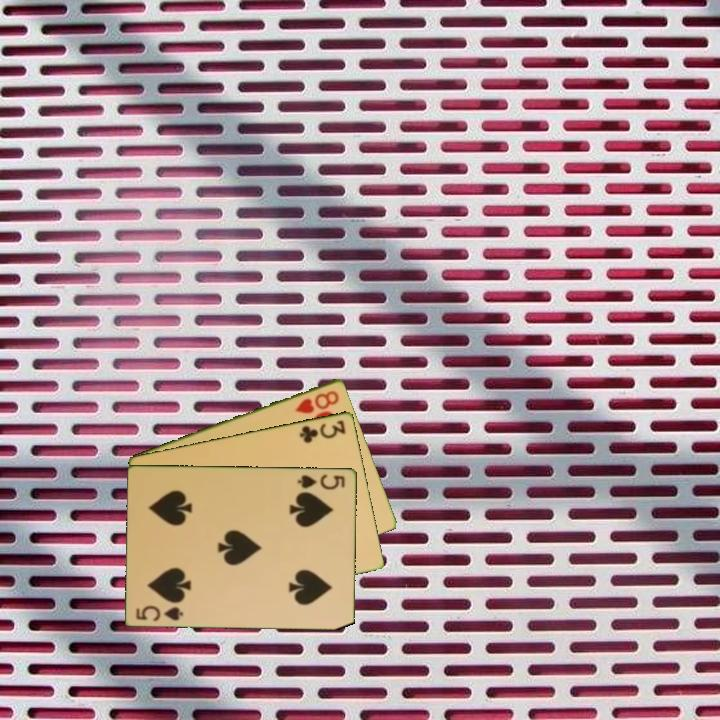3c: (296, 416, 348, 445)
5s: (294, 471, 348, 492), (133, 602, 186, 623)
8h: (292, 387, 342, 416)
